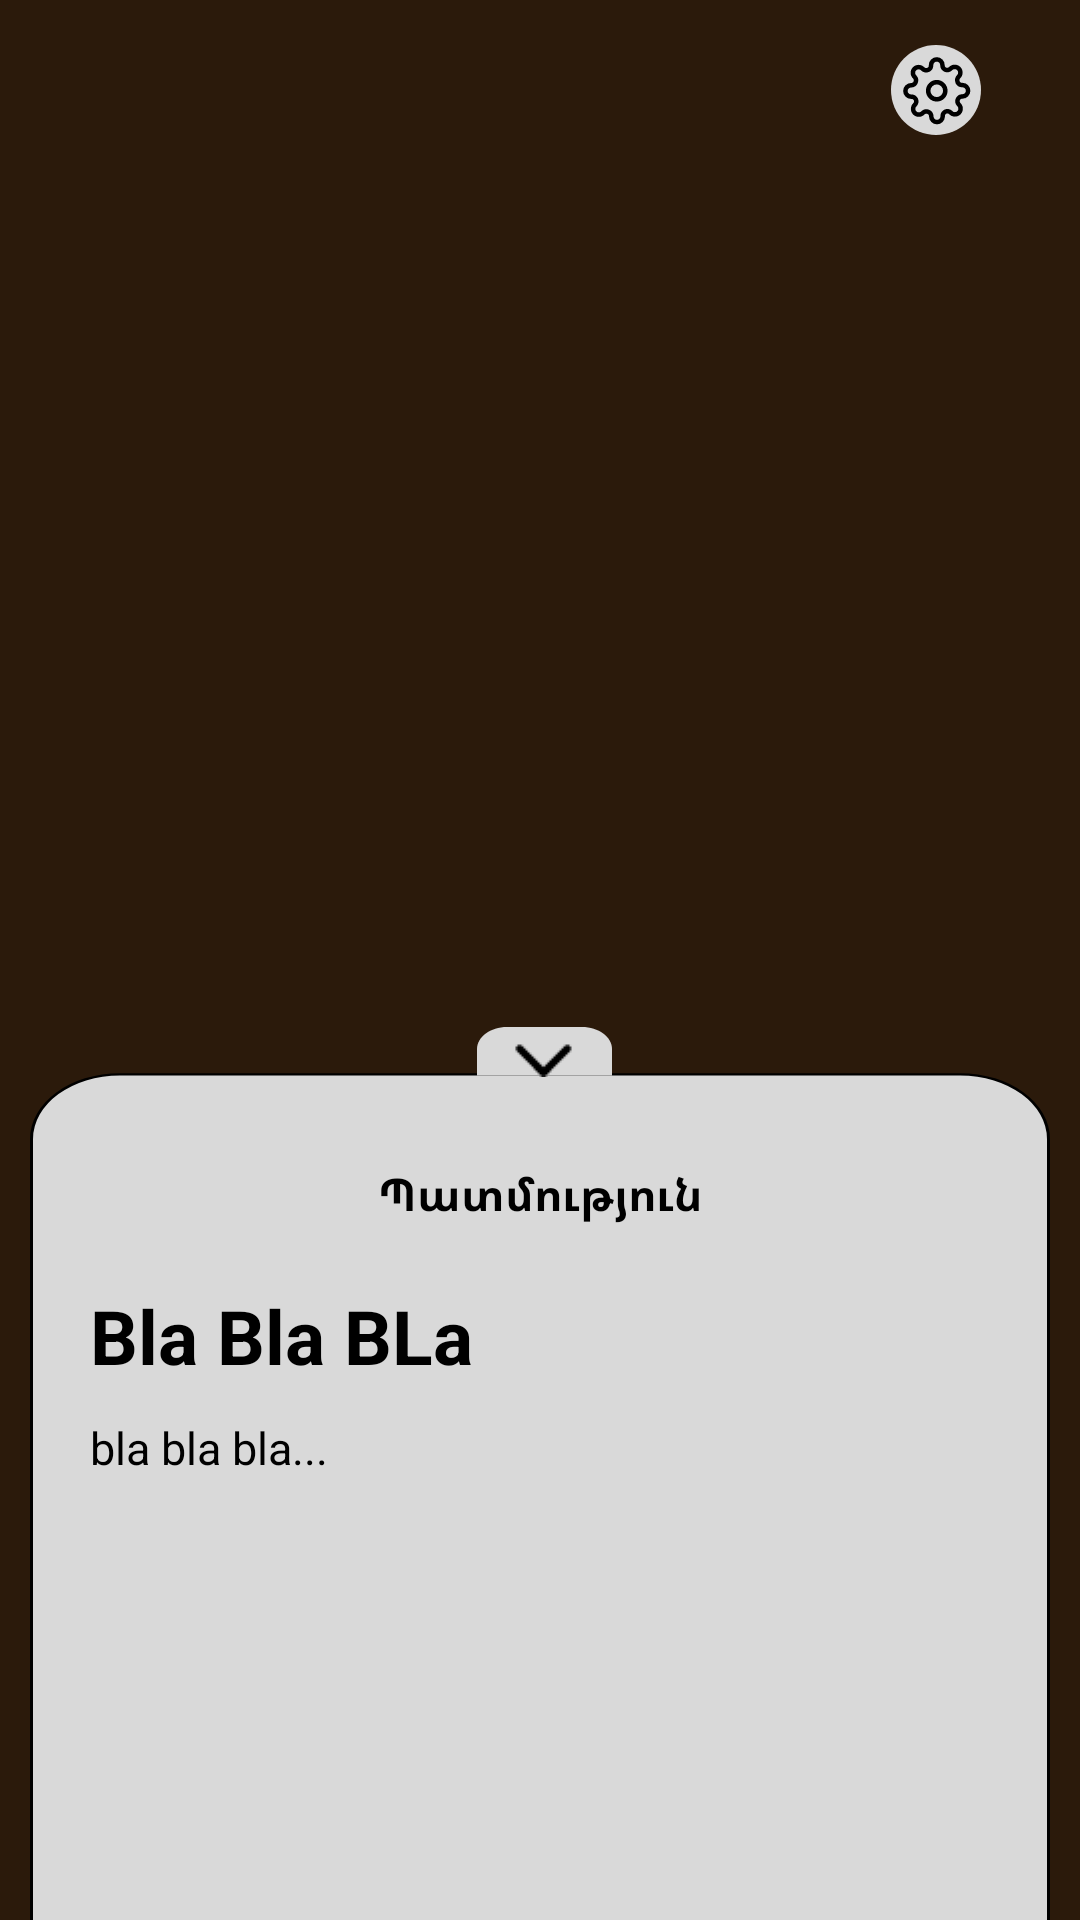

Icon click points for this 1080w x 1920h phone screenshot, format (x=x, y=y):
settings: (x=936, y=90)
